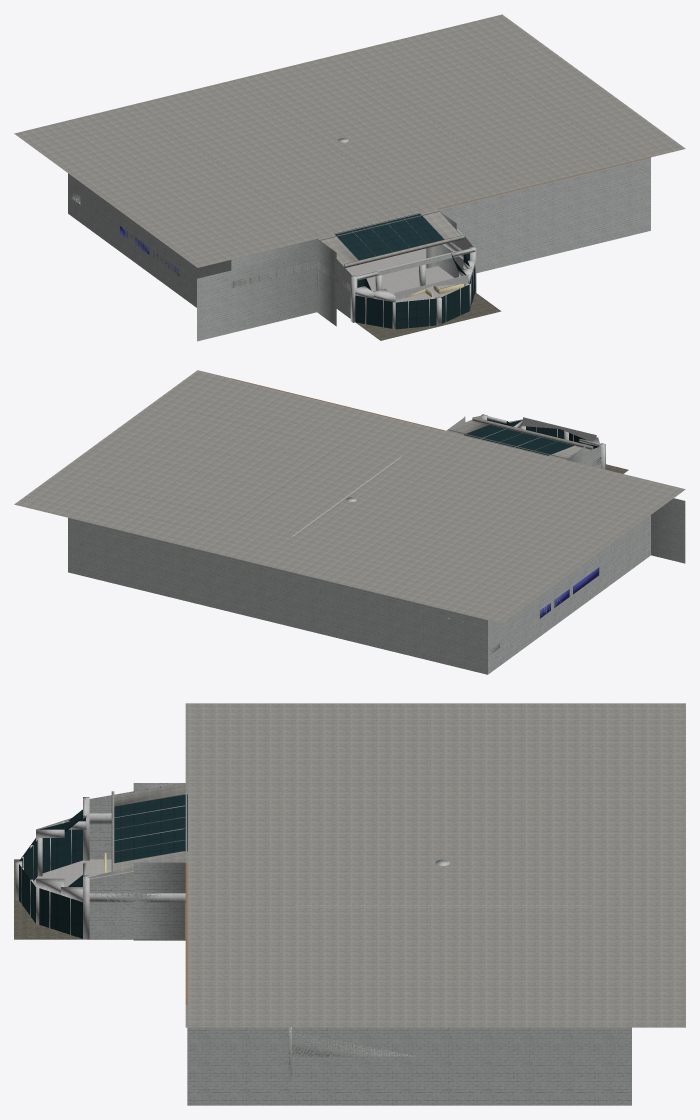
Rendered from Waterworld2.79.obj.
3 views of the same model, one above another, from view 1: azimuth 30°, elevation 25°; view 2: azimuth 150°, elevation 25°; view 3: azimuth 270°, elevation 25° (orthographic). The views are drawn at different scales.
Bounding box in the file's own units: 72.96 × 10.6 × 63.84.
